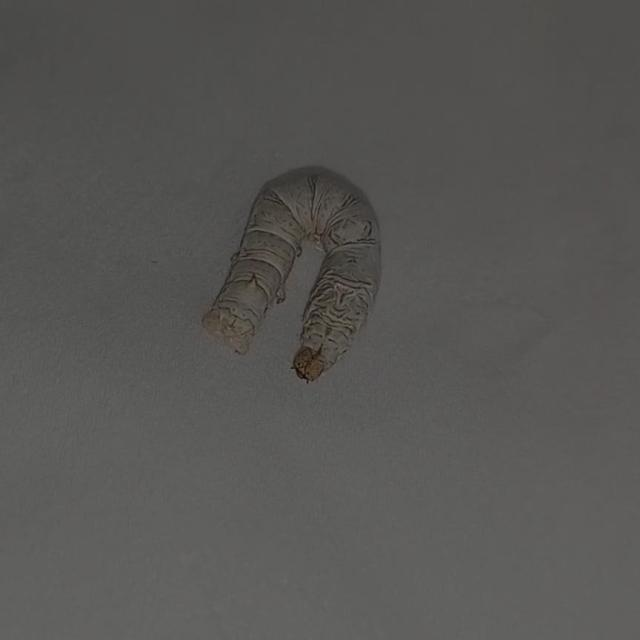Healthy: (170, 137, 398, 418)
